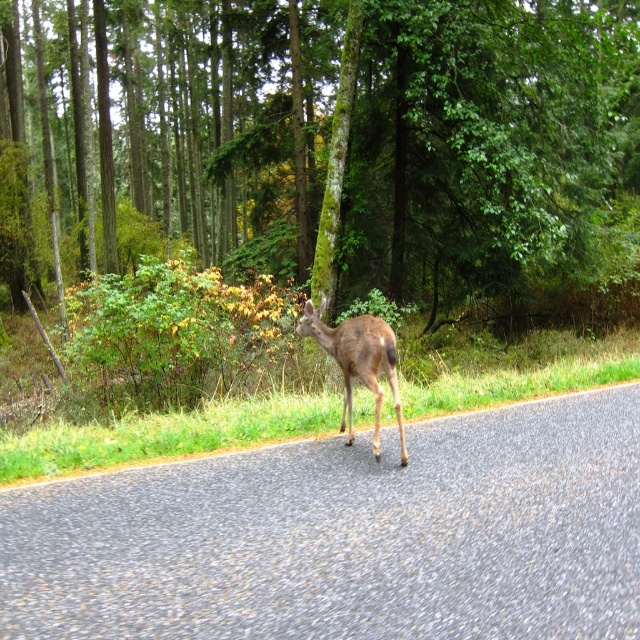Deer: (296, 301, 408, 468)
